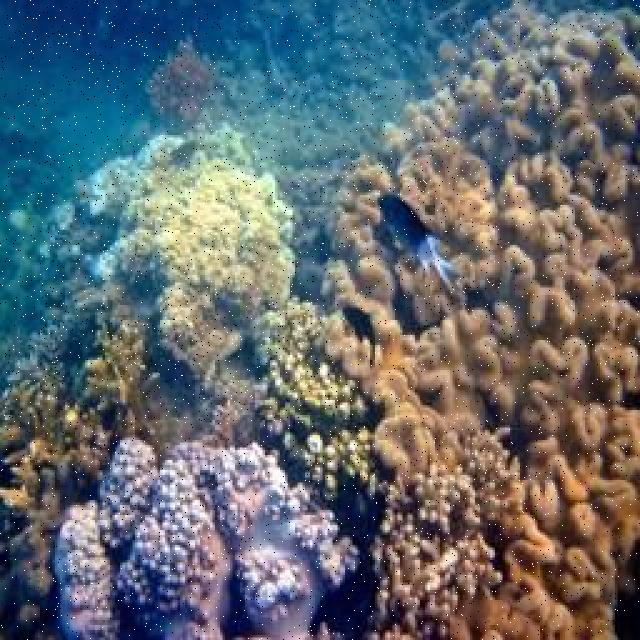fish: (375, 194, 469, 306), (341, 305, 376, 367)
reefs: (322, 1, 638, 638), (54, 439, 358, 638), (248, 297, 390, 509), (0, 313, 146, 517)
